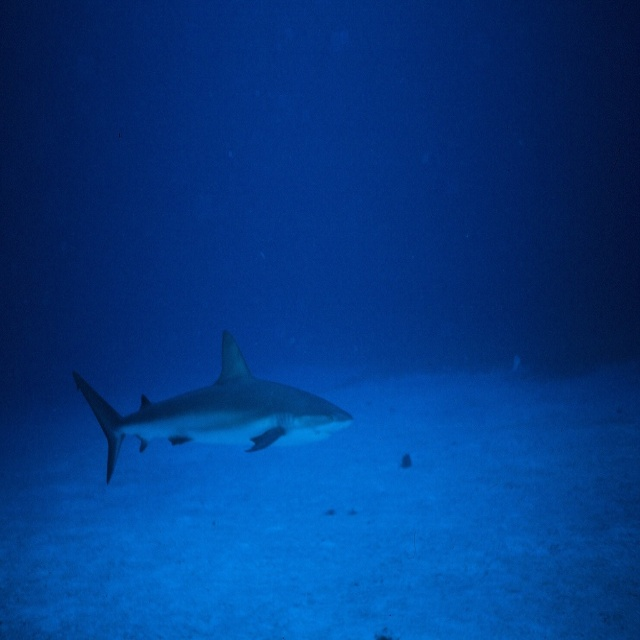Shark: (73, 327, 358, 487)
